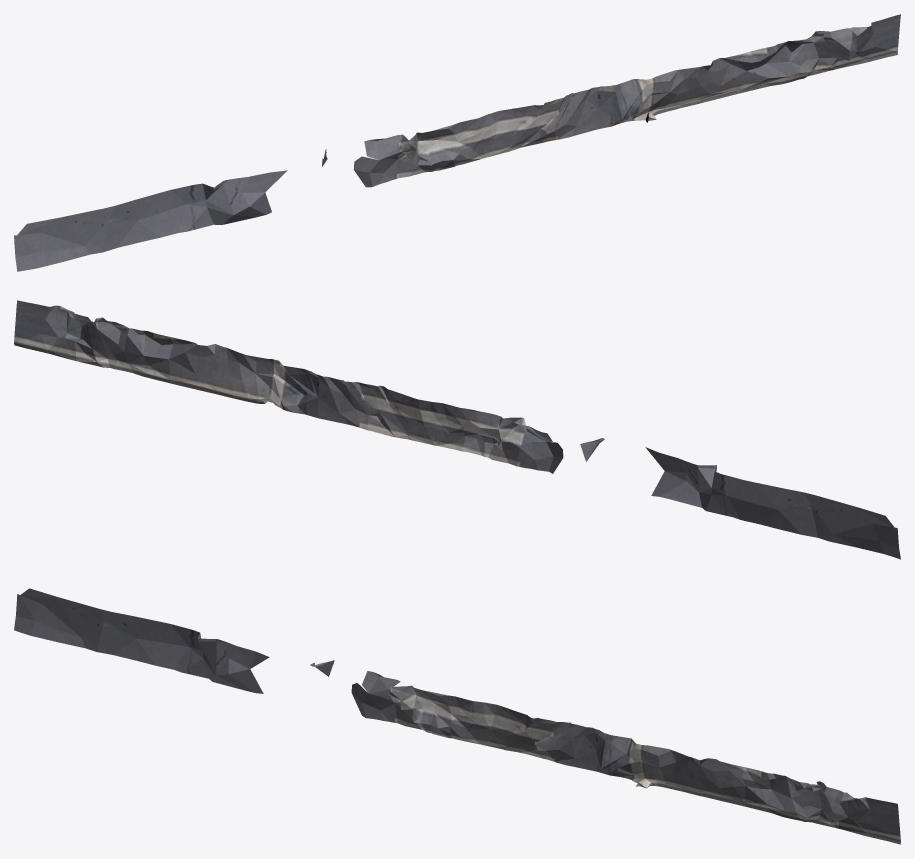
The model's file is Tile_+006_+022.obj.
3 views of the same model, one above another, from view 1: azimuth 30°, elevation 25°; view 2: azimuth 150°, elevation 25°; view 3: azimuth 330°, elevation 25° (orthographic).
Bounding box in the file's own units: 33.11 × 1.53 × 0.9993.
Materials: 1 (1 with a texture image).
